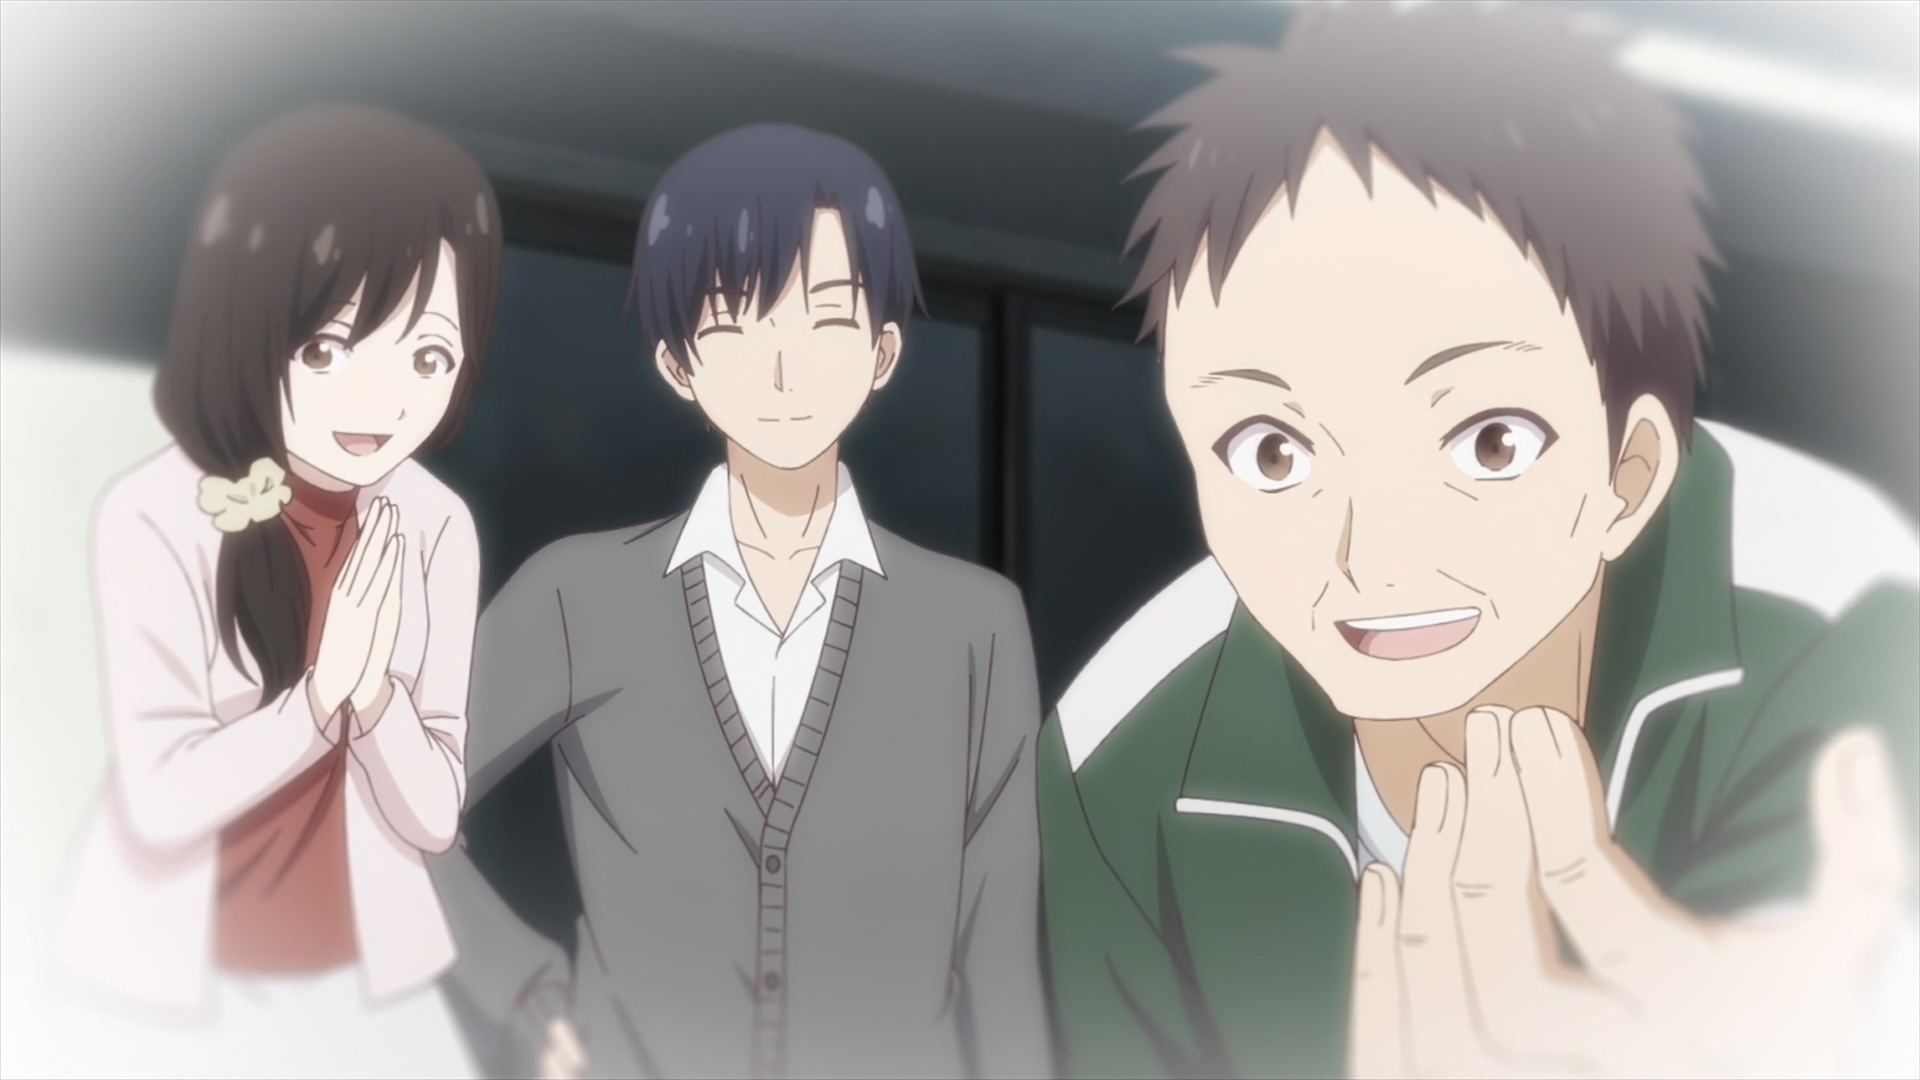其他: (1036, 1, 1920, 1080), (422, 123, 1059, 1080), (1, 102, 505, 1080)
